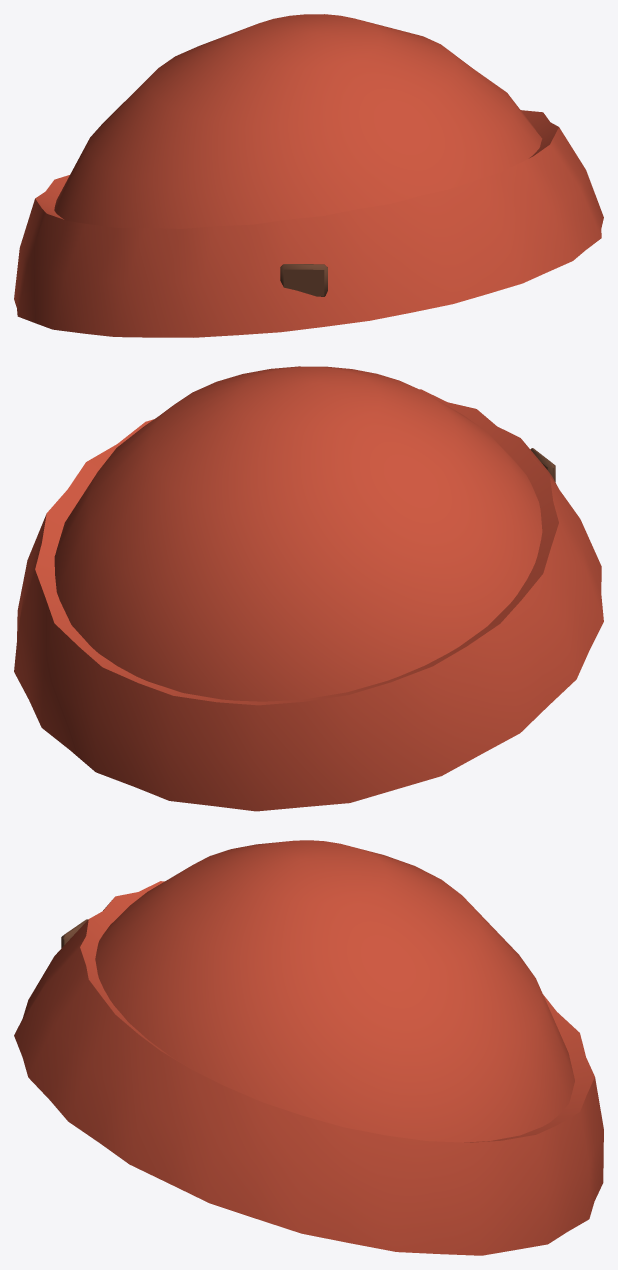
Rendered from Char_Hat_Beanie.fbx.
3 renders of one model, top to bottom at view 1: azimuth 30°, elevation 25°; view 2: azimuth 150°, elevation 25°; view 3: azimuth 270°, elevation 25°, orthographic. The views are drawn at different scales.
Visible parts, largest first — view 1: Beanie, Tag; view 2: Beanie; view 3: Beanie.
Part boxes in pixels (<box>): Beanie: <box>14,14,603,337</box>; Tag: <box>280,264,327,296</box>; Beanie: <box>14,366,603,811</box>; Beanie: <box>14,840,603,1255</box>.
Size of the model in its own units: 164 by 93.31 by 154.
